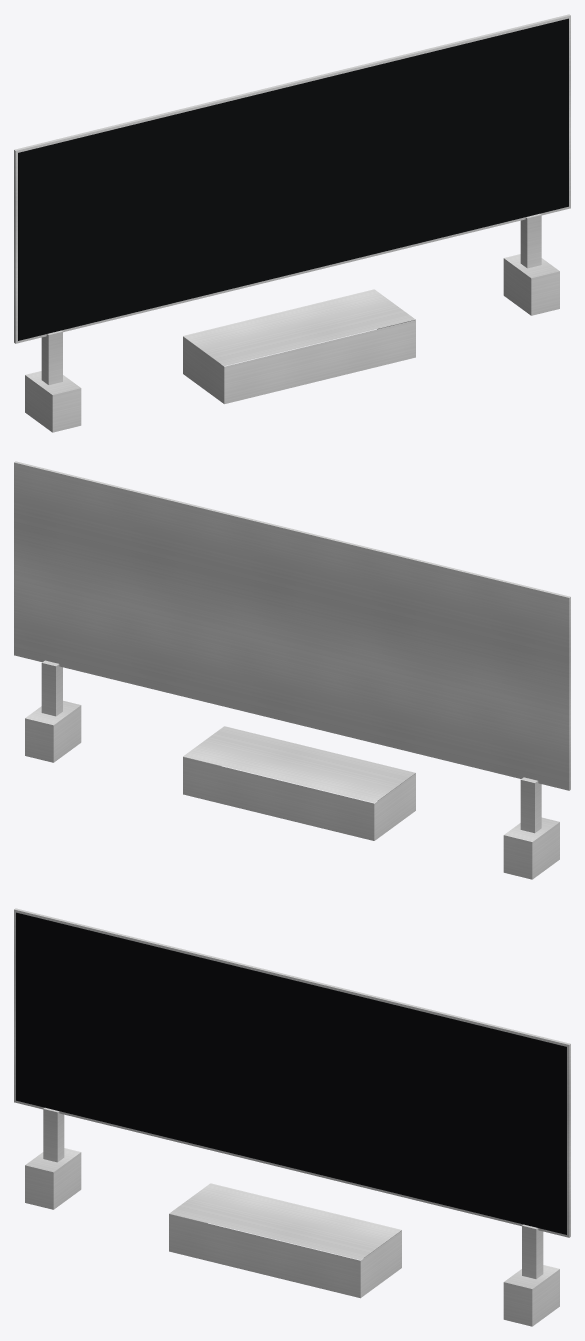
The model's file is tv_mega.obj.
3 views of the same model, one above another, from view 1: azimuth 30°, elevation 25°; view 2: azimuth 150°, elevation 25°; view 3: azimuth 330°, elevation 25° (orthographic).
Visible parts, largest first — view 1: tv_mega; view 2: tv_mega; view 3: tv_mega.
Boxes of the visible parts, left/top/right/bottom form: tv_mega: left=14, top=14, right=570, bottom=432; tv_mega: left=14, top=461, right=570, bottom=879; tv_mega: left=14, top=908, right=570, bottom=1326.
Size of the model in its own units: 4.64 by 2.22 by 0.6.
